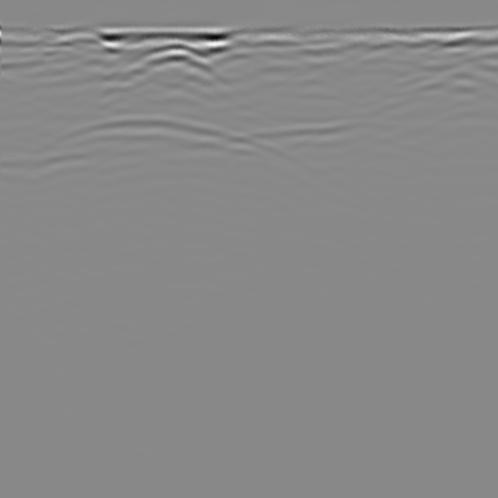hyperbola: (3, 108, 320, 219)
